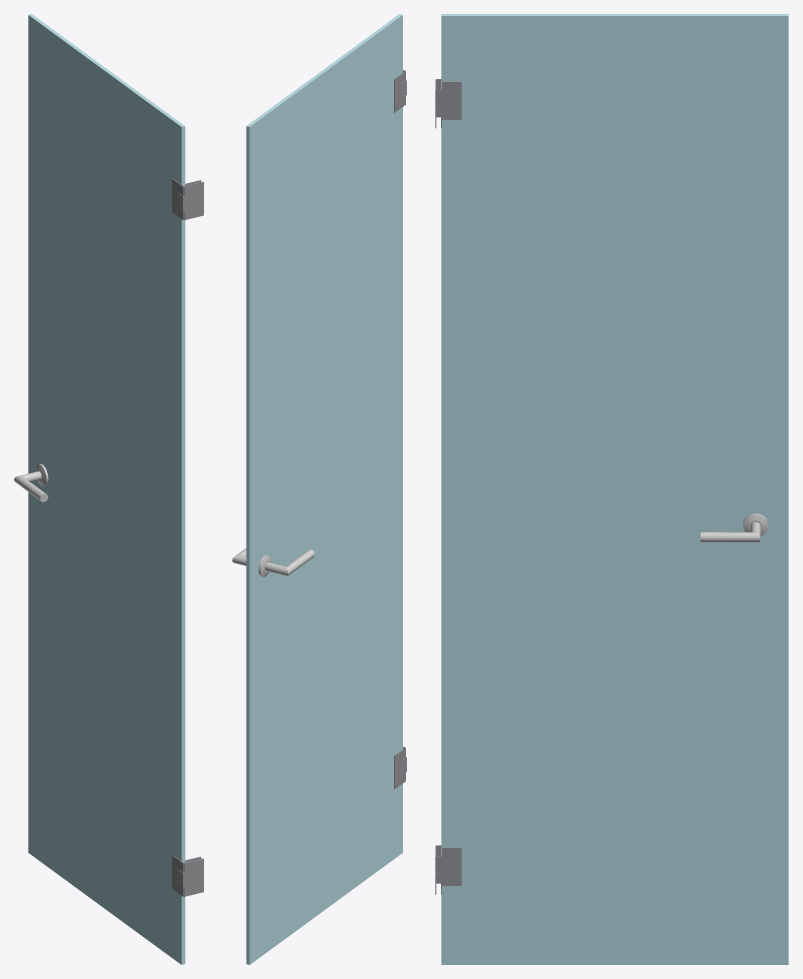
The model's file is Tuere_Dusche.glb.
3 views of the same model, side by side, from view 1: azimuth 30°, elevation 25°; view 2: azimuth 150°, elevation 25°; view 3: azimuth 270°, elevation 25° (orthographic). The views are drawn at different scales.
Parts seen in each view (by area): view 1: Mesh1 Component_783 G_21_T_re_Dusche_dwg1 Model, Mesh4 Component_786 G_21_T_re_Dusche_dwg1 Model, Mesh9 Component_791 G_21_T_re_Dusche_dwg1 Model, Mesh13 Component_795 G_21_T_re_Dusche_dwg1 Model; view 2: Mesh1 Component_783 G_21_T_re_Dusche_dwg1 Model, Mesh13 Component_795 G_21_T_re_Dusche_dwg1 Model; view 3: Mesh1 Component_783 G_21_T_re_Dusche_dwg1 Model, Mesh12 Component_794 G_21_T_re_Dusche_dwg1 Model, Mesh5 Component_787 G_21_T_re_Dusche_dwg1 Model, Mesh10 Component_792 G_21_T_re_Dusche_dwg1 Model.
Part boxes in pixels (bbox=[...]): Mesh1 Component_783 G_21_T_re_Dusche_dwg1 Model: bbox=[28, 14, 185, 964]; Mesh4 Component_786 G_21_T_re_Dusche_dwg1 Model: bbox=[184, 858, 203, 896]; Mesh9 Component_791 G_21_T_re_Dusche_dwg1 Model: bbox=[184, 181, 203, 220]; Mesh13 Component_795 G_21_T_re_Dusche_dwg1 Model: bbox=[14, 464, 48, 502]; Mesh1 Component_783 G_21_T_re_Dusche_dwg1 Model: bbox=[246, 14, 402, 964]; Mesh13 Component_795 G_21_T_re_Dusche_dwg1 Model: bbox=[258, 549, 314, 576]; Mesh1 Component_783 G_21_T_re_Dusche_dwg1 Model: bbox=[441, 14, 788, 964]; Mesh12 Component_794 G_21_T_re_Dusche_dwg1 Model: bbox=[700, 513, 768, 542]; Mesh5 Component_787 G_21_T_re_Dusche_dwg1 Model: bbox=[441, 847, 461, 885]; Mesh10 Component_792 G_21_T_re_Dusche_dwg1 Model: bbox=[441, 81, 461, 119].
Size of the model in its own units: 15.86 by 225 by 75.78.
